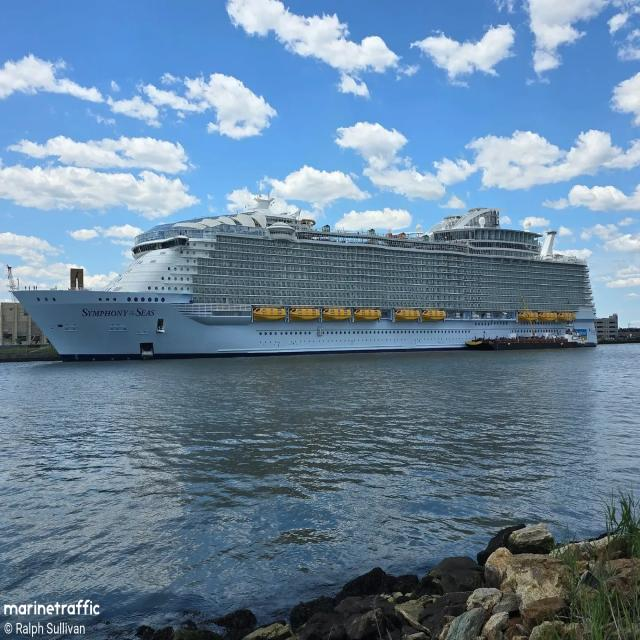Cruise: (10, 198, 596, 361)
